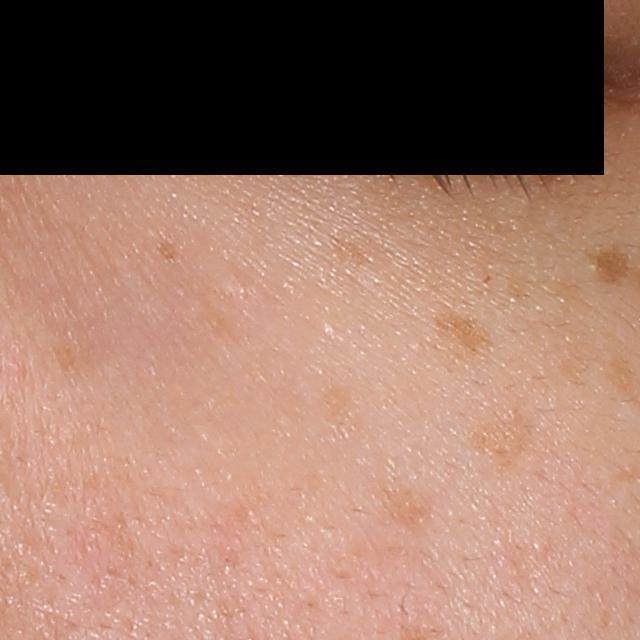melasma: (474, 407, 528, 473), (424, 313, 494, 355), (378, 483, 435, 528), (578, 245, 639, 285), (329, 232, 369, 271), (155, 236, 185, 263)
